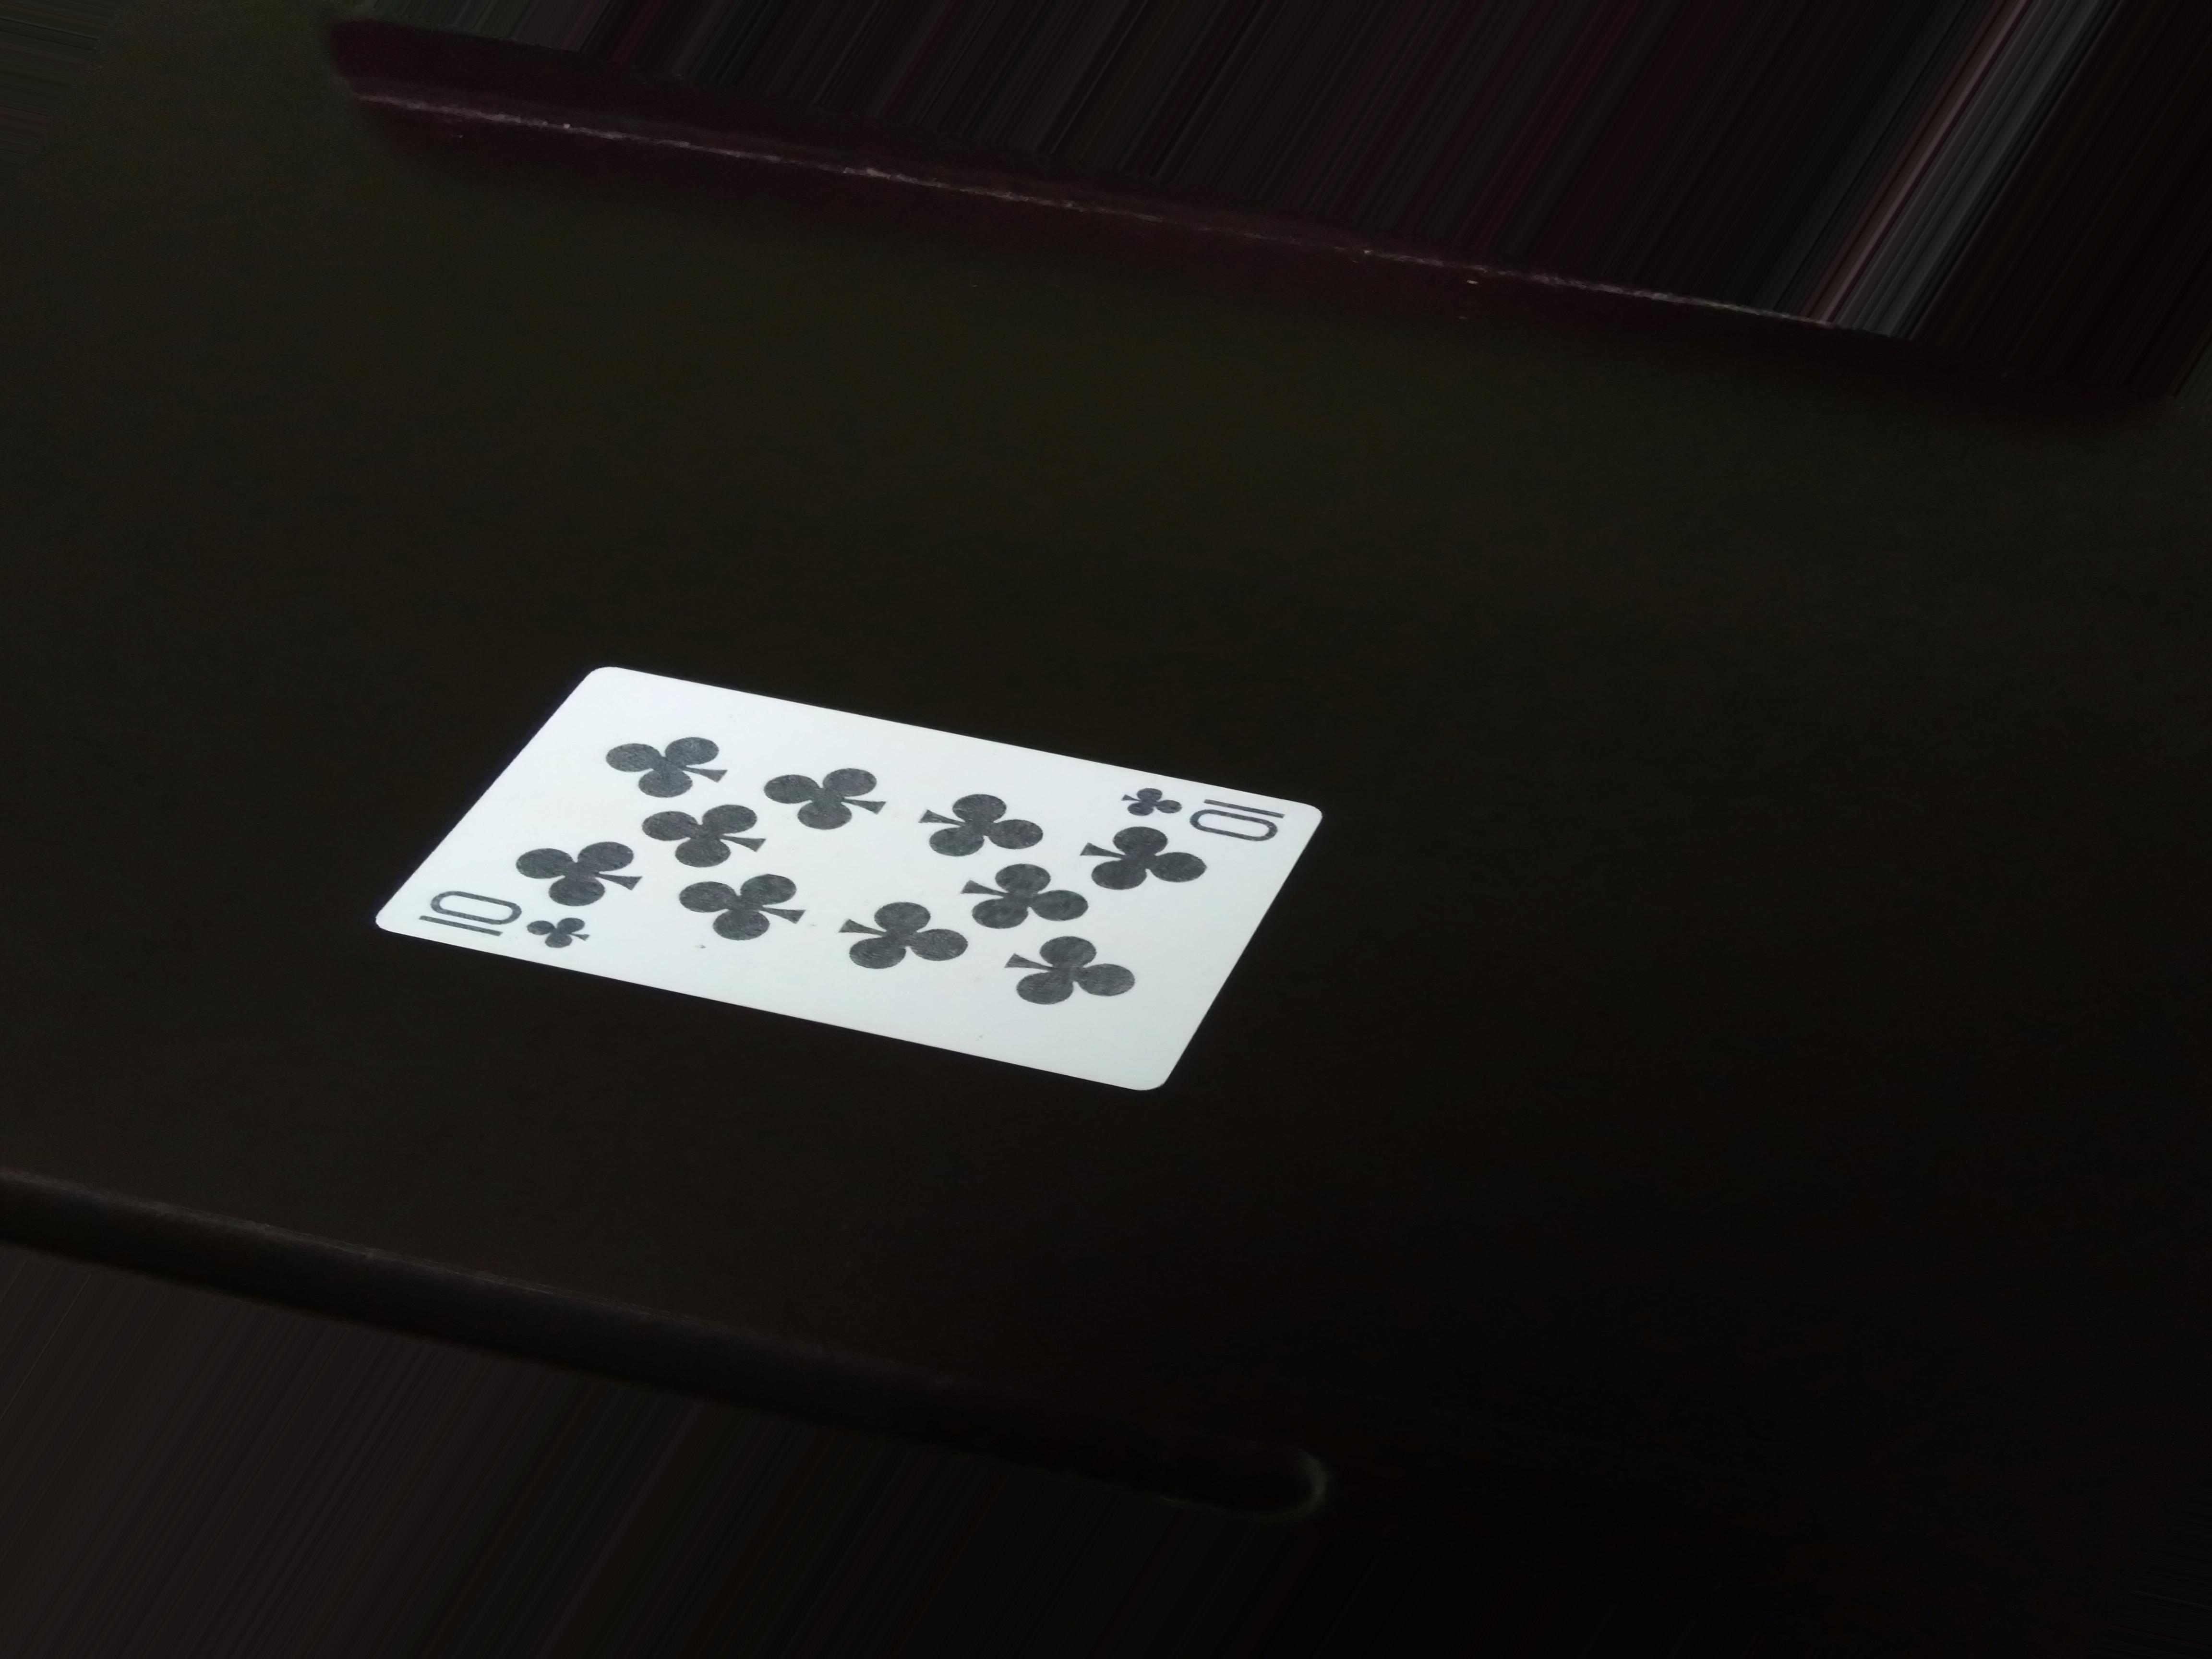10C: (415, 884, 624, 986)
